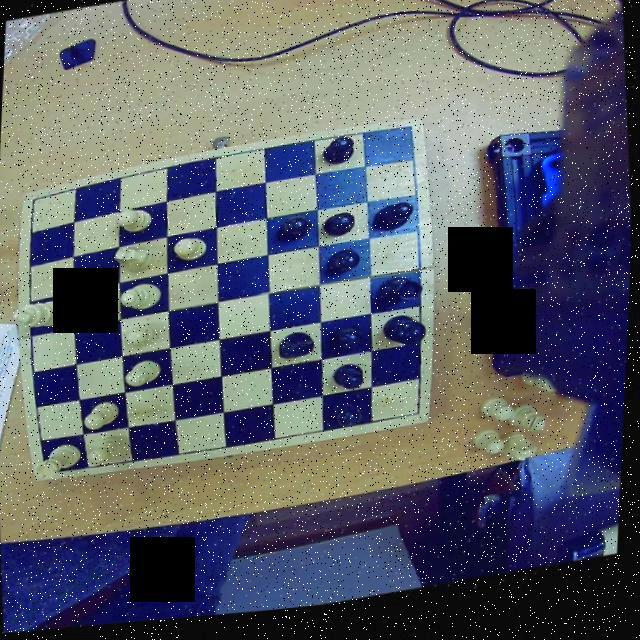chess-table-corners: (394, 128, 422, 152), (36, 463, 65, 483), (408, 408, 432, 432), (22, 194, 44, 216)
